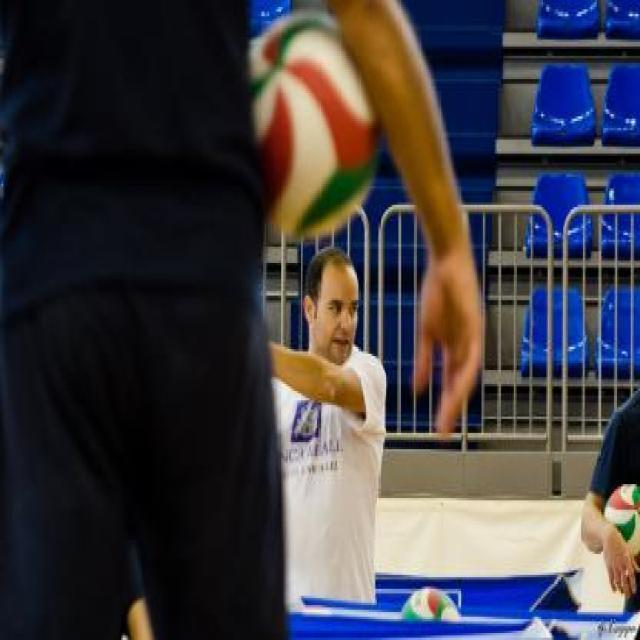volleyball: (248, 13, 378, 235)
